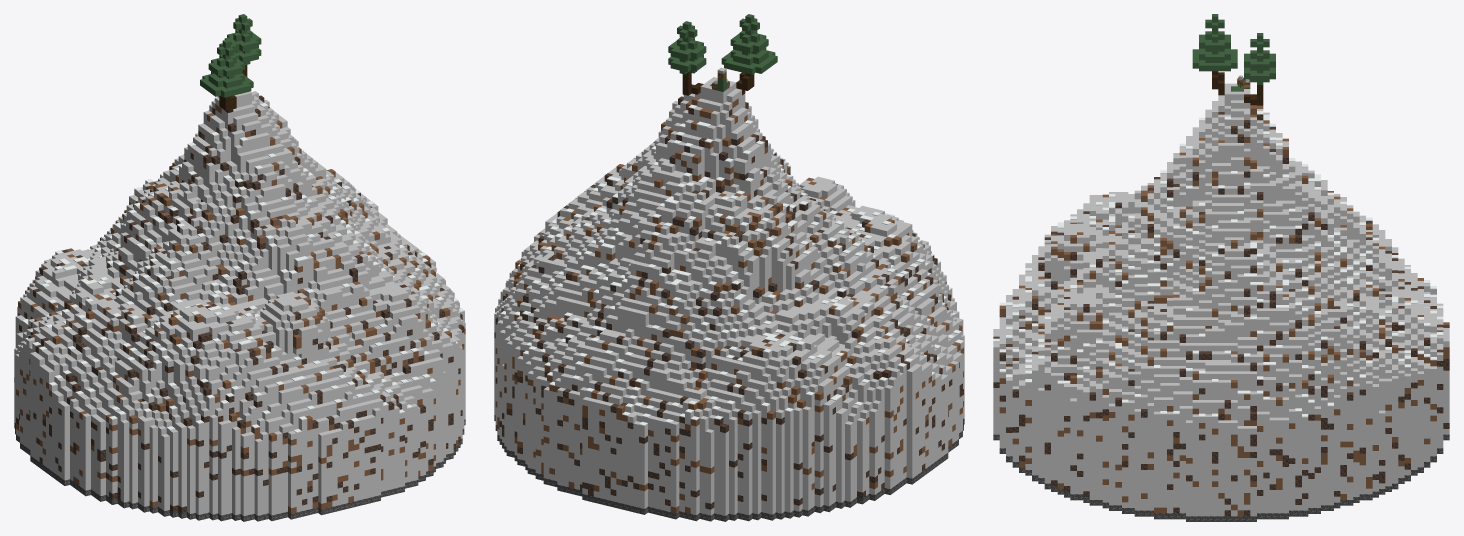
The model's file is minecraft.obj.
3 views of the same model, side by side, from view 1: azimuth 30°, elevation 25°; view 2: azimuth 150°, elevation 25°; view 3: azimuth 270°, elevation 25° (orthographic). The views are drawn at different scales.
Bounding box in the file's own units: 71 × 69 × 71.
